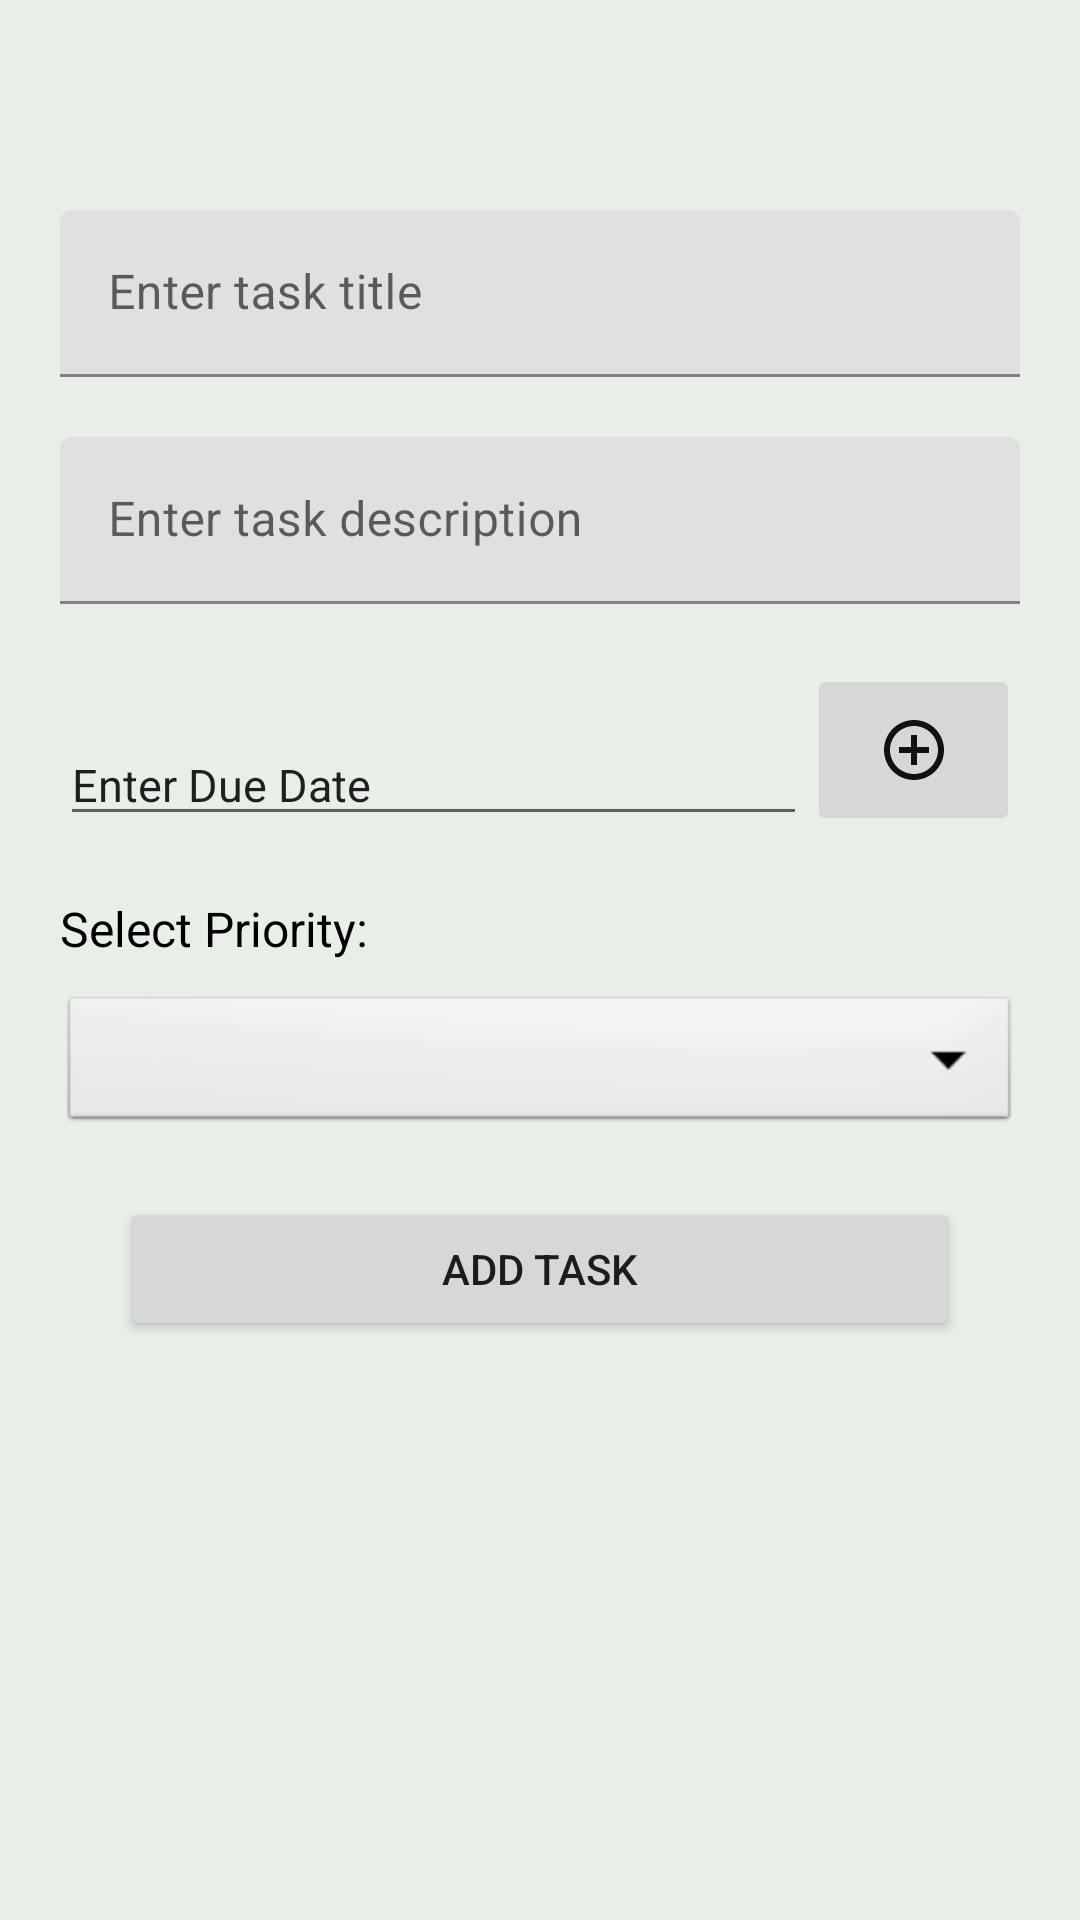

Icon click points for this 1080*1920 phone screenshot, format [x,y]:
add: [913,750]
